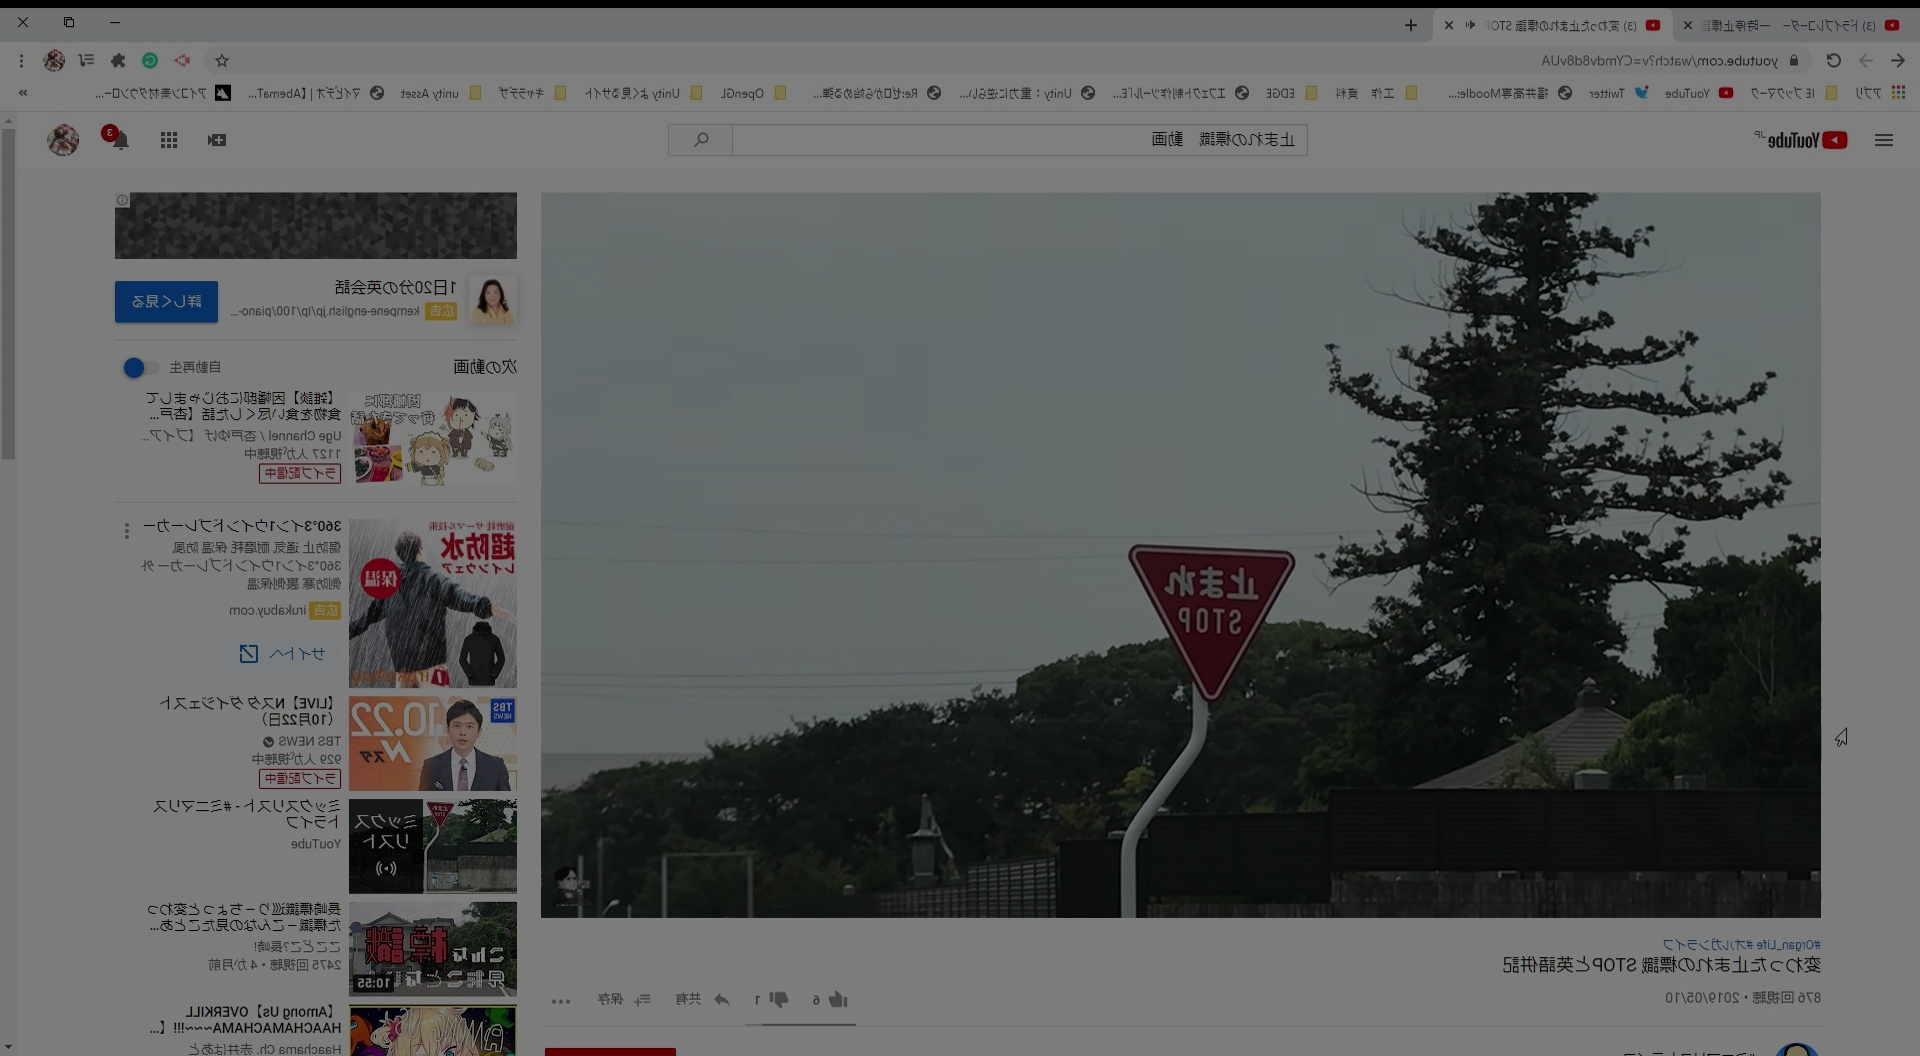Regulatory_sign_triangle: (1113, 515, 1291, 707)
